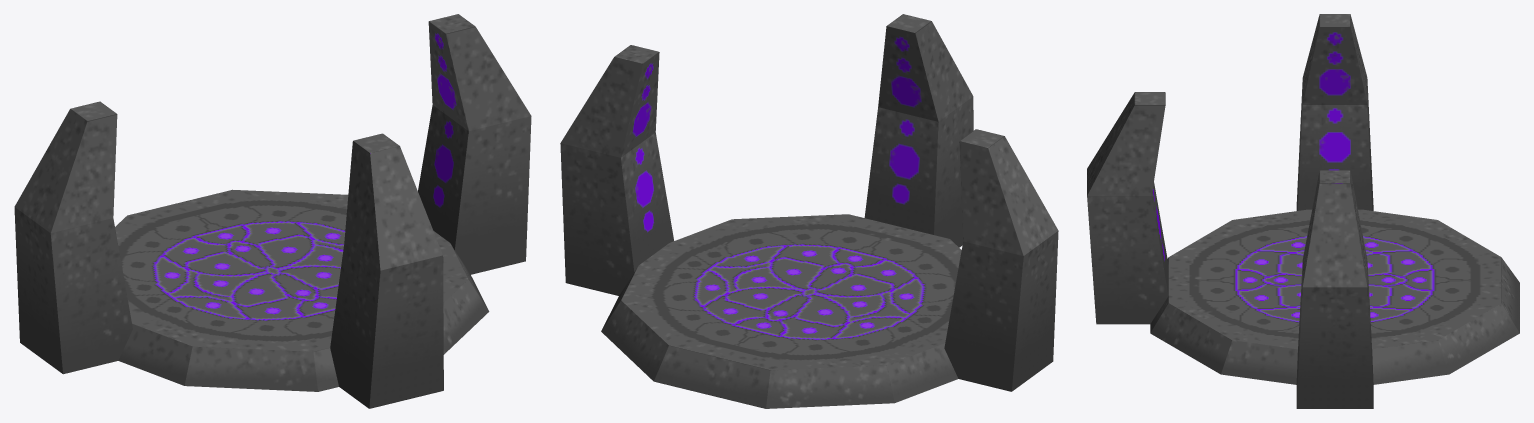
The model's file is Shrine Tp.fbx.
3 views of the same model, side by side, from view 1: azimuth 30°, elevation 25°; view 2: azimuth 150°, elevation 25°; view 3: azimuth 270°, elevation 25° (orthographic). The views are drawn at different scales.
Visible parts, largest first — view 1: shrineTp; view 2: shrineTp; view 3: shrineTp.
Part boxes in pixels (left/top/right/bottom): shrineTp: left=14, top=14, right=531, bottom=408; shrineTp: left=560, top=14, right=1058, bottom=408; shrineTp: left=1087, top=14, right=1519, bottom=408.
Size of the model in its own units: 201 by 93.75 by 176.
Materials: 1 (1 with a texture image).
